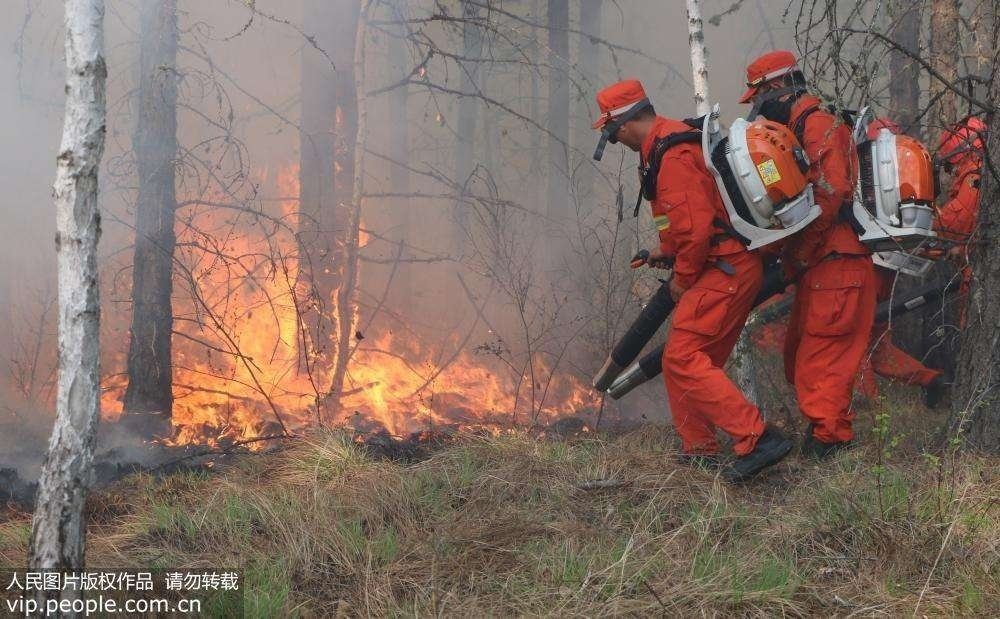fire: (121, 158, 596, 454)
